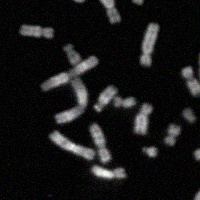chromosome: (40, 55, 98, 90), (54, 76, 87, 123), (49, 130, 95, 159), (140, 22, 160, 67), (90, 123, 111, 163), (94, 85, 117, 112), (134, 103, 153, 134), (94, 0, 120, 22), (181, 67, 200, 95), (18, 24, 53, 38), (170, 184, 200, 200), (90, 165, 125, 178), (63, 43, 80, 64), (164, 123, 180, 145), (113, 96, 136, 107), (183, 107, 195, 122), (192, 139, 200, 160), (142, 146, 157, 157), (133, 0, 143, 5), (52, 0, 85, 1)
